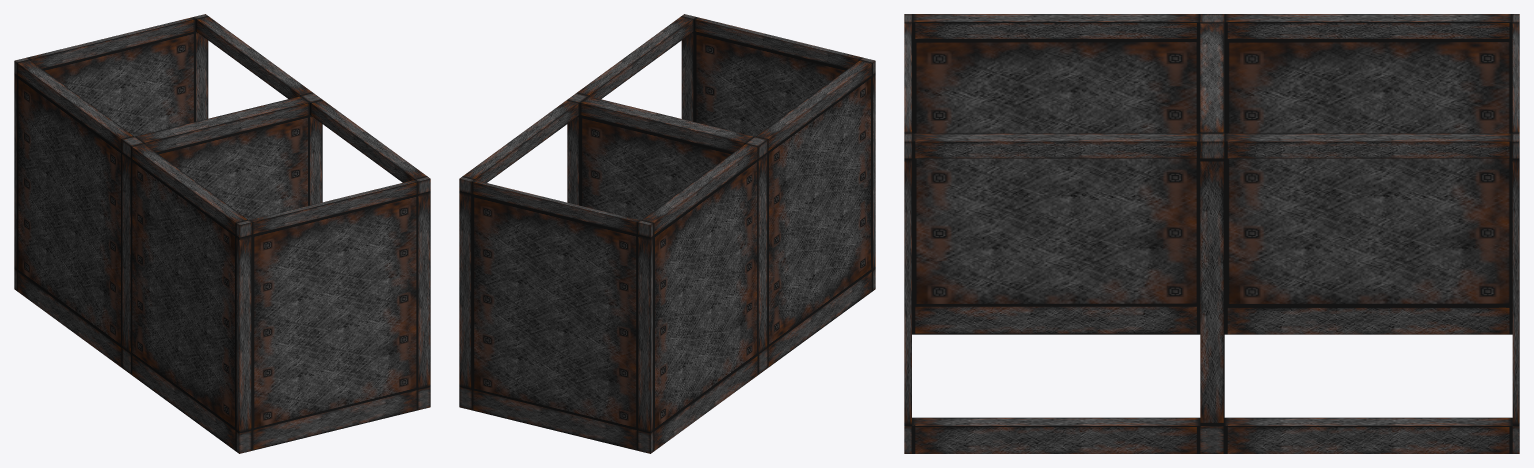
Rendered from Elevator Shaft.fbx.
3 renders of one model, left to right at view 1: azimuth 30°, elevation 25°; view 2: azimuth 150°, elevation 25°; view 3: azimuth 270°, elevation 25°, orthographic. The views are drawn at different scales.
Parts seen in each view (by area): view 1: Cube; view 2: Cube; view 3: Cube.
Boxes of the visible parts, x1,y1,x2,y2 form: Cube: [14, 14, 430, 453]; Cube: [459, 14, 875, 453]; Cube: [904, 14, 1519, 453].
Size of the model in its own units: 4.82 by 9.82 by 5.5.
